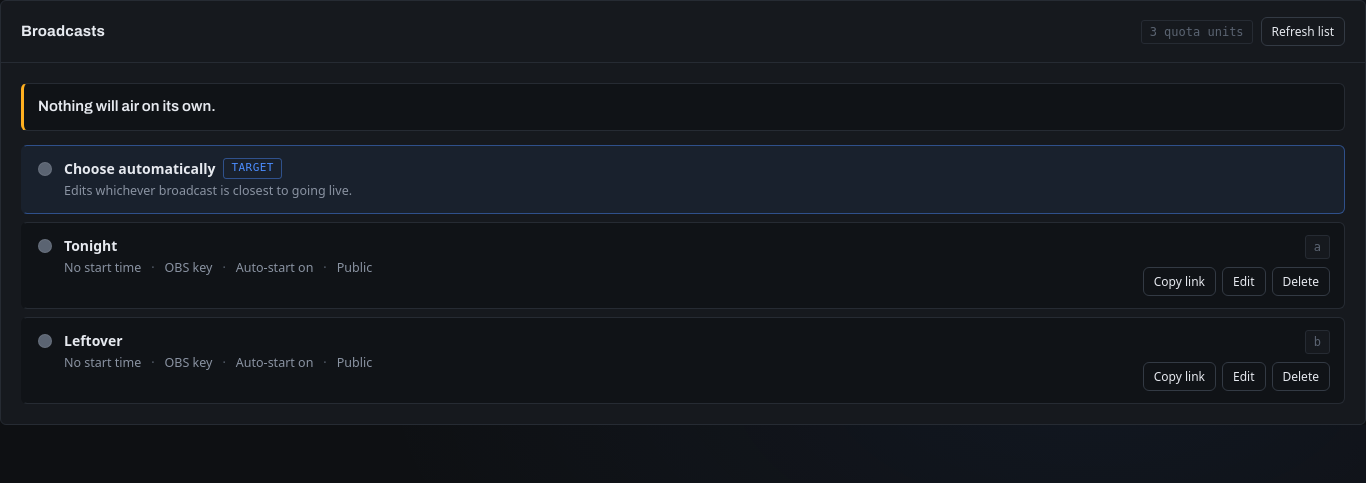
it: BroadcastList, managing (issue 069) › copies the watch link of the row it was pressed on
Click the 2nd button "Copy link" at coordinates (1179, 376), box 1143,362 -> 1216,390
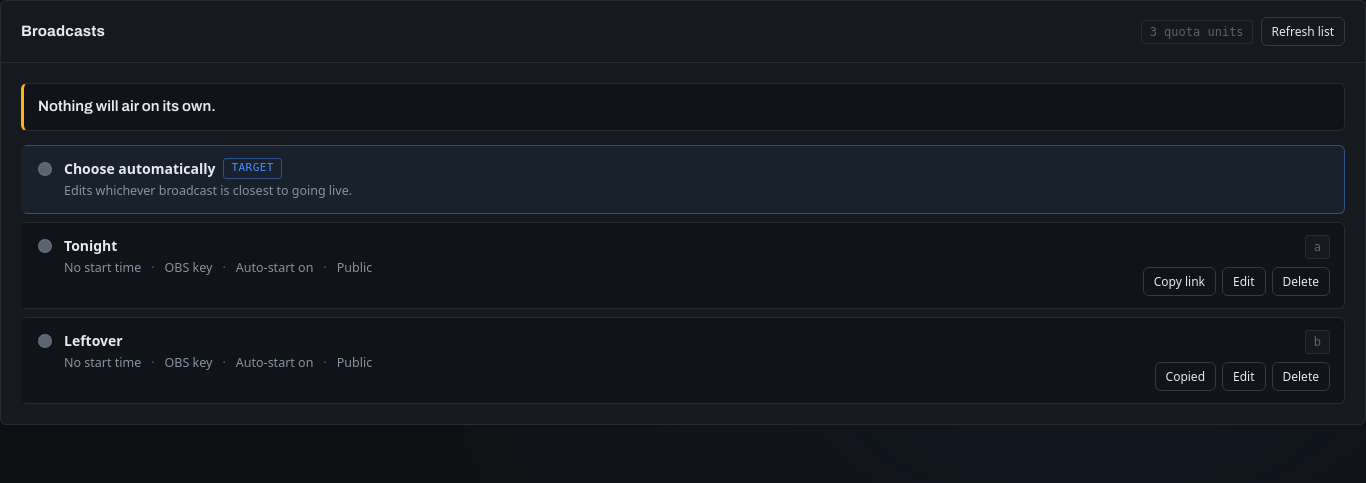
expect the button "Copy link" is shown: met, box 1143,266 -> 1216,296
expect the button "Copied" is shown: met, box 1154,362 -> 1216,390
